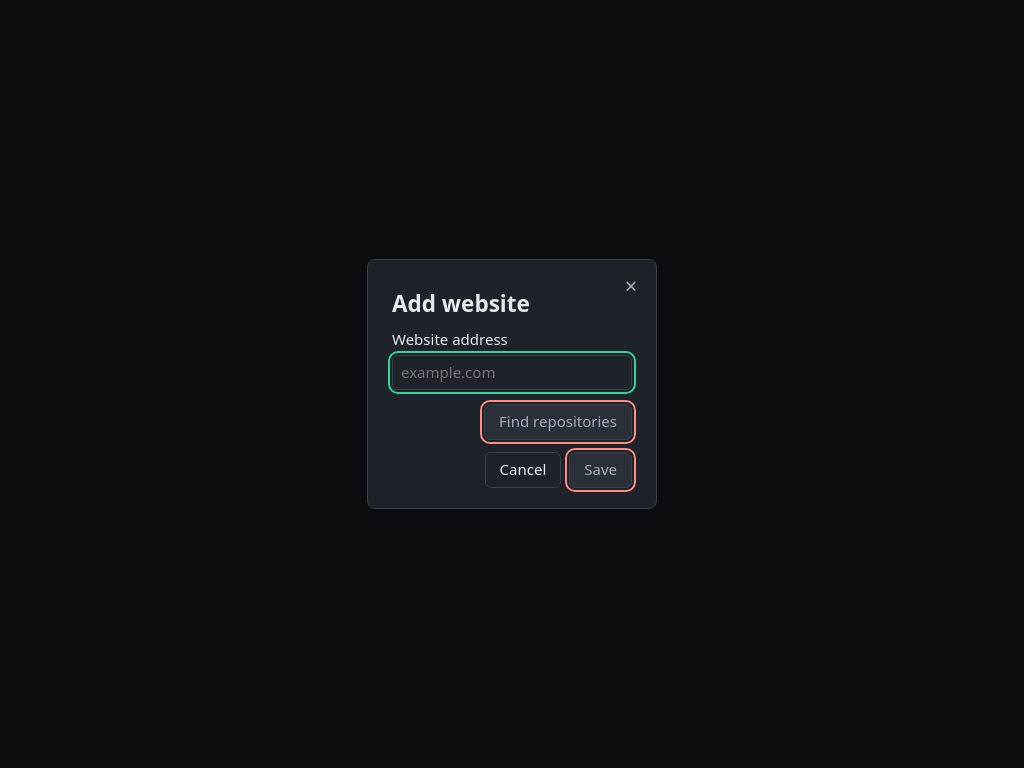
Test case: adding a website › shows a refused find in the dialog and leaves a refused repository untyped
Type "::" into the field labelled "Website address" at (512, 372), box [392,355,632,390]
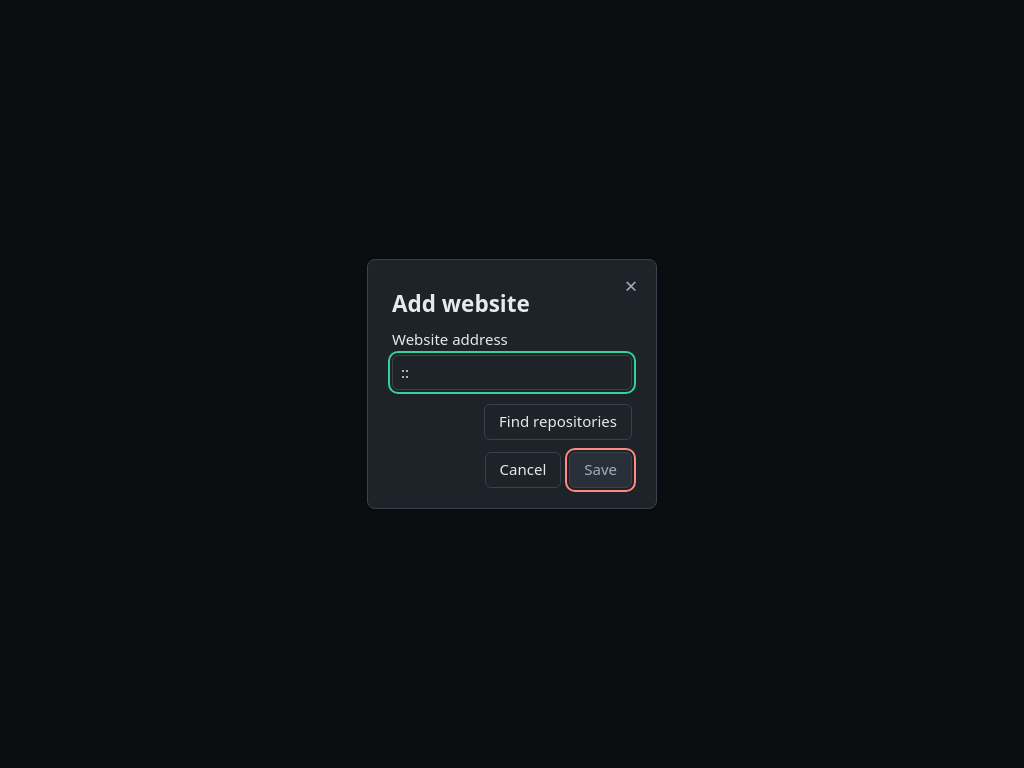
Click the button "Find repositories" at (558, 422), box [484,404,632,440]
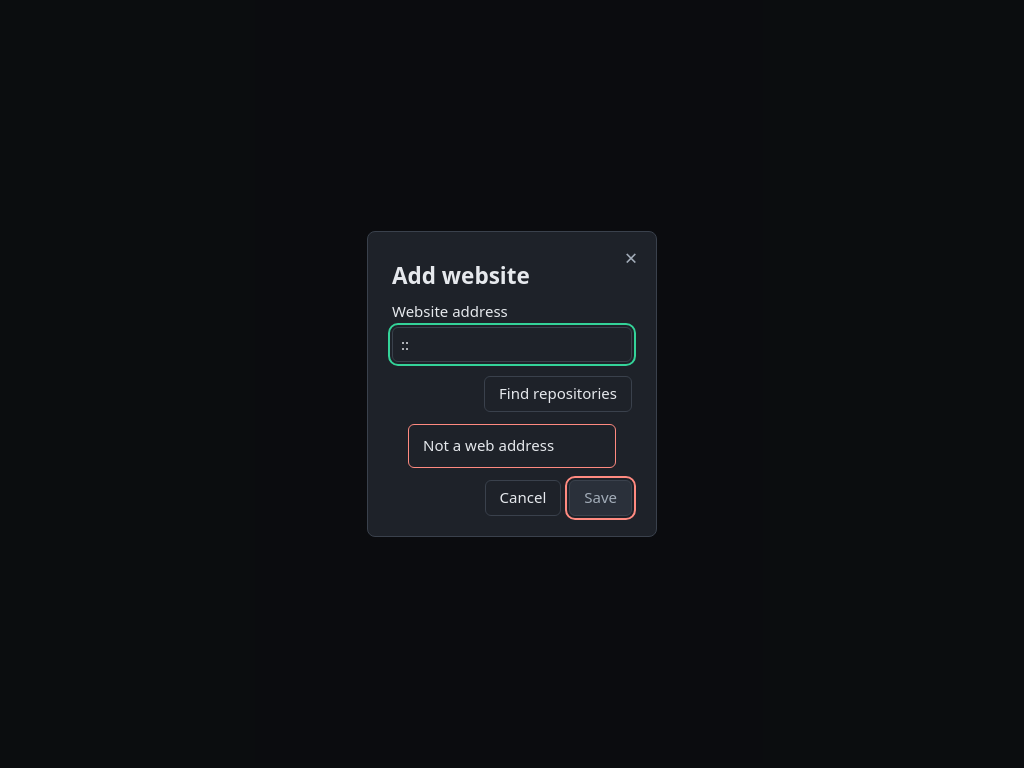
expect the button "Find repositories" is enabled: met
expect the message reads "Not a web address": met, box [423,435,554,455]
Click the button "Find repositories" at (558, 394), box [484,376,632,412]
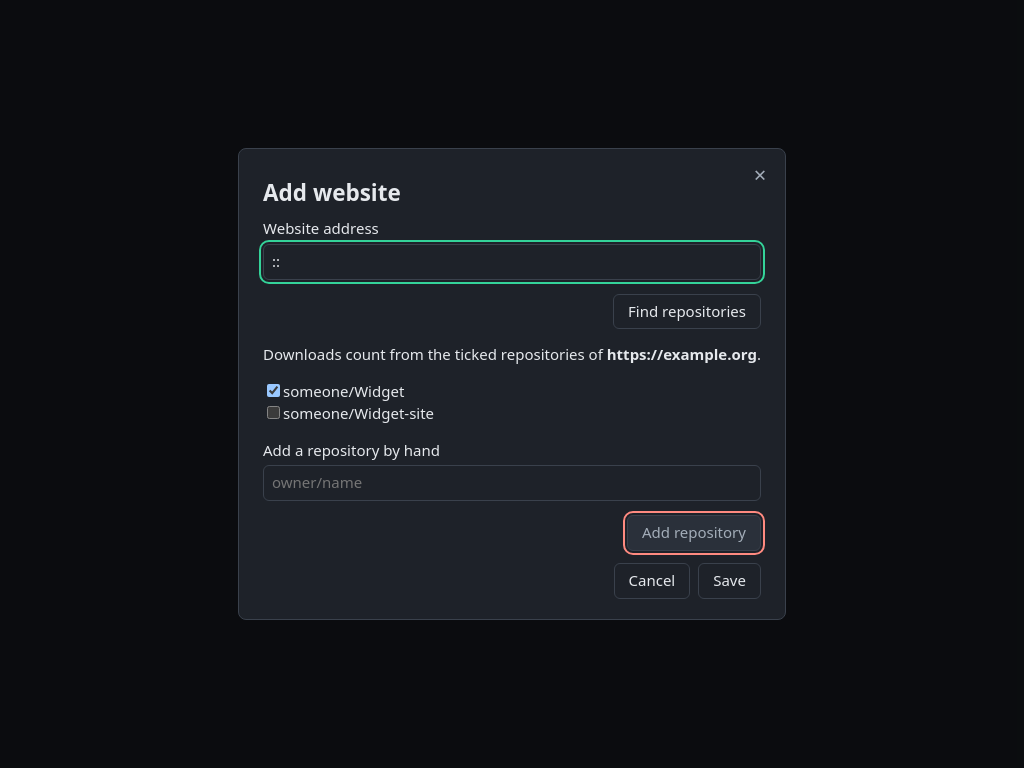
expect the message "Not a web address" is gone: met
Type "nobody/nothing" into the field labelled "Add a repository by hand" at (512, 483), box [263,465,761,501]
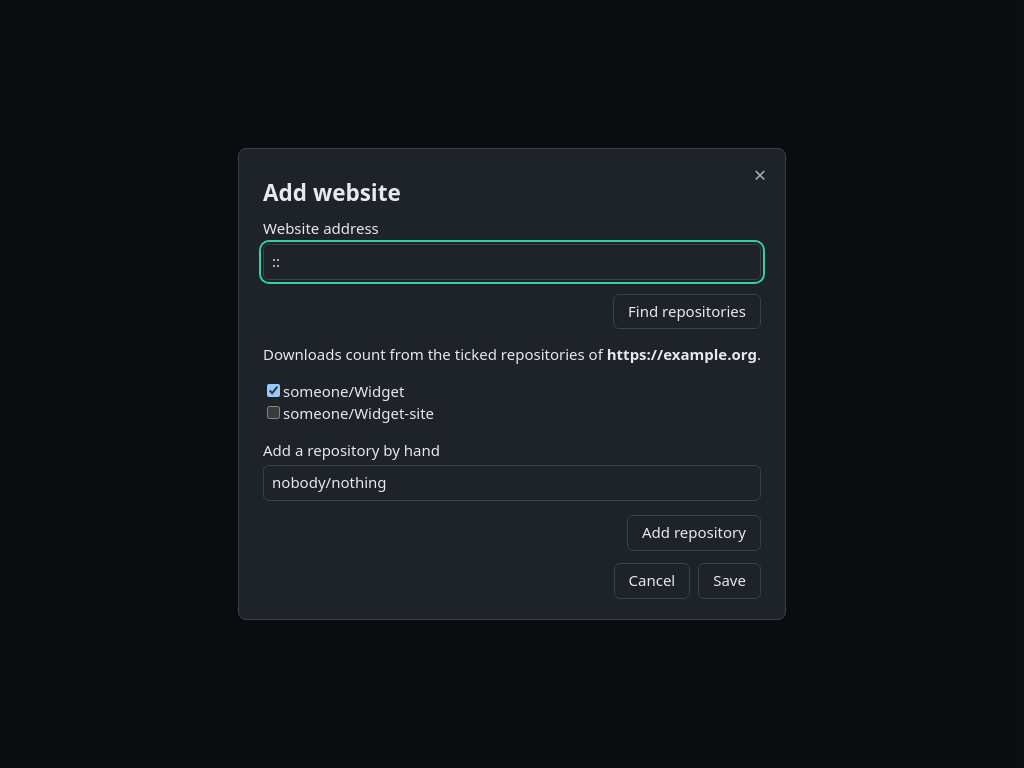
Click the button "Add repository" at (694, 533), box [627,515,761,551]
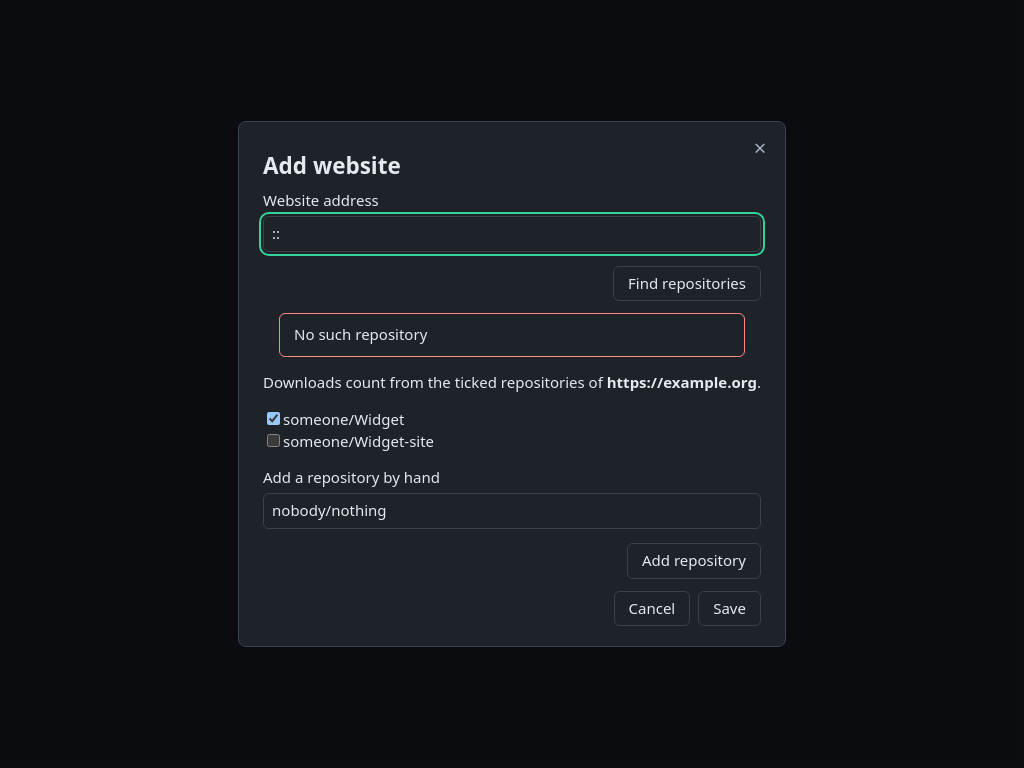
expect the message reads "No such repository": met, box [294,324,427,344]
